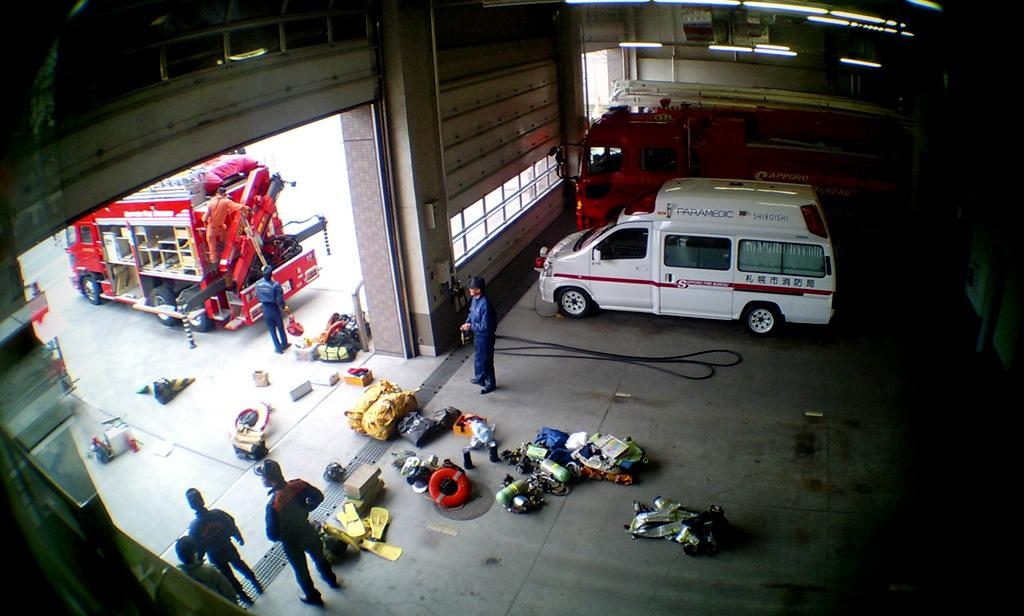Ambulance: (534, 180, 833, 339)
